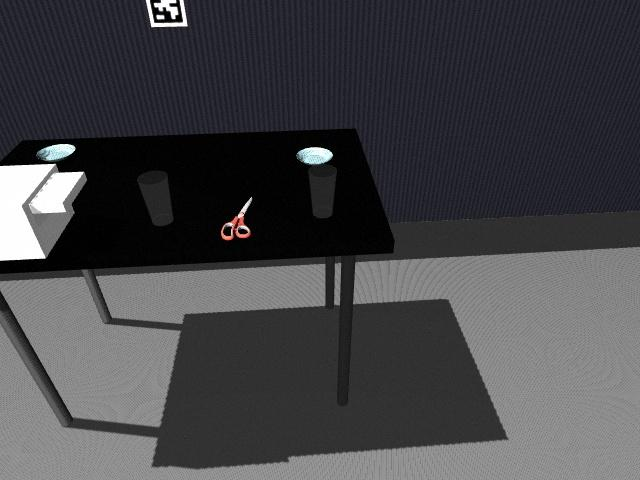cup: (137, 171, 173, 225), (308, 164, 337, 218)
plate: (34, 143, 77, 163), (296, 147, 333, 165)
scissors: (219, 196, 254, 241)
